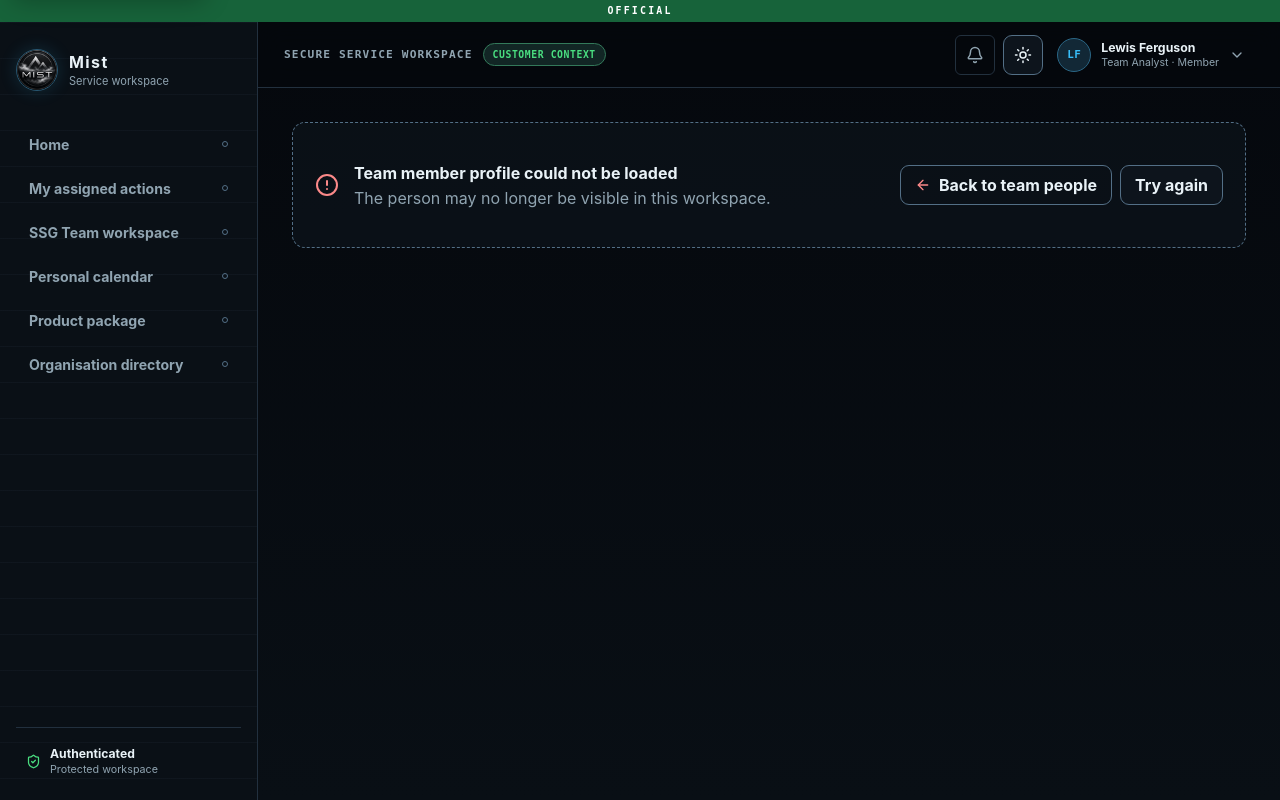
Test: team member profile › recovers a failed profile read and renders explicit empty and inactive states
Expected: the heading "Team member profile could not be loaded" is shown, [354,162,678,182]
Step 1. Click the button "Try again" → coordinates (1172, 185), box [1120,165,1223,205]
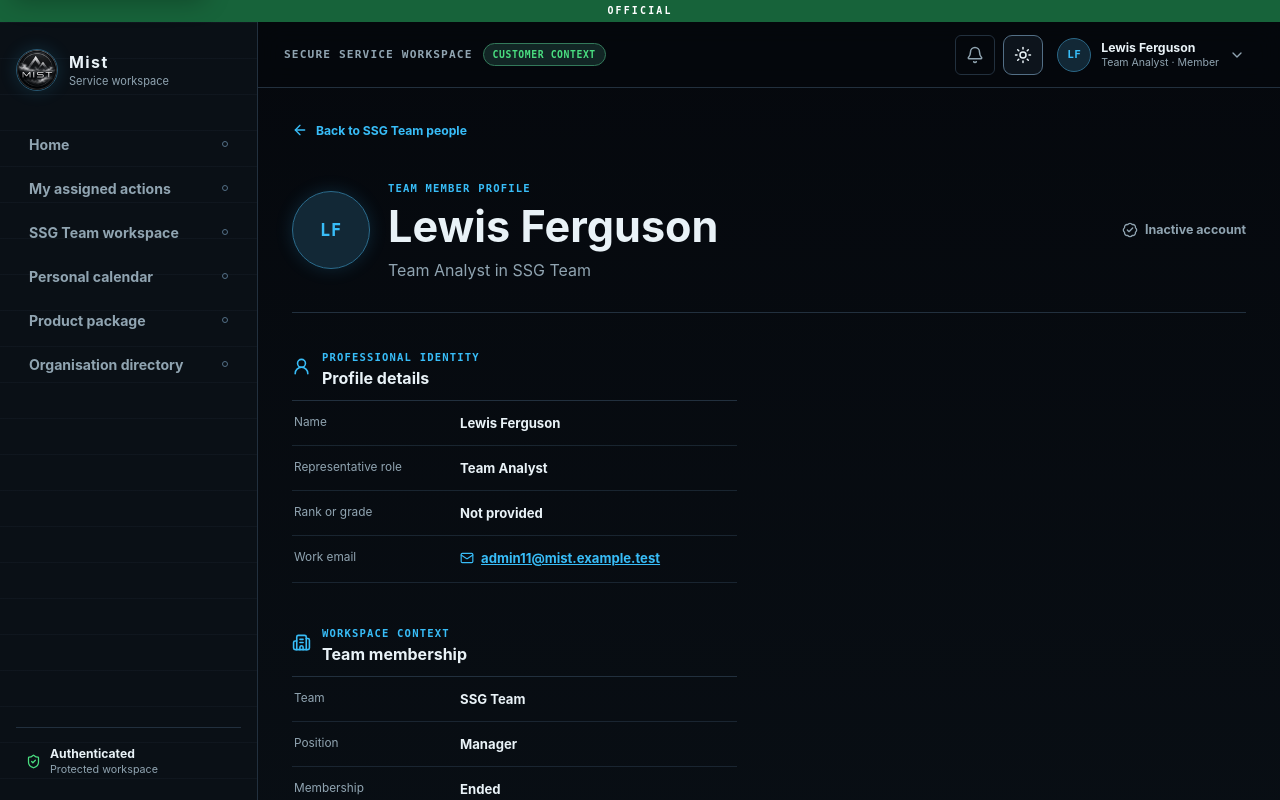
Now the text "Inactive account" is shown, box [1122,222,1246,238]
Now the text "Manager" is shown, box [460,736,517,752]
Now the text "Not provided" is shown, box [460,505,543,521]
